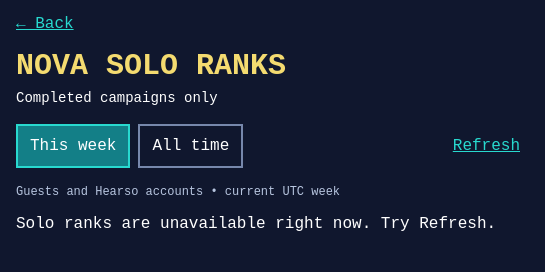
Scenario: solo leaderboard screen › shows a safe retry state when the public read fails
Check: the message shows "unavailable", box [16,215,496,233]
Step 1. Click the button "Refresh" → [486, 146], box [445,124,528,168]
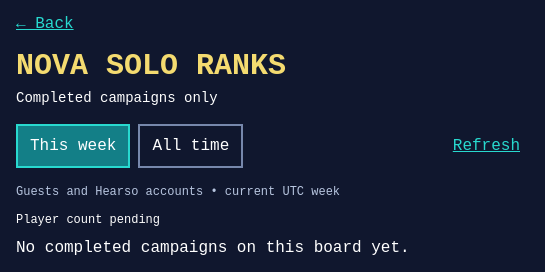
Check: the text "Player count pending" is shown, box [16,213,160,227]
